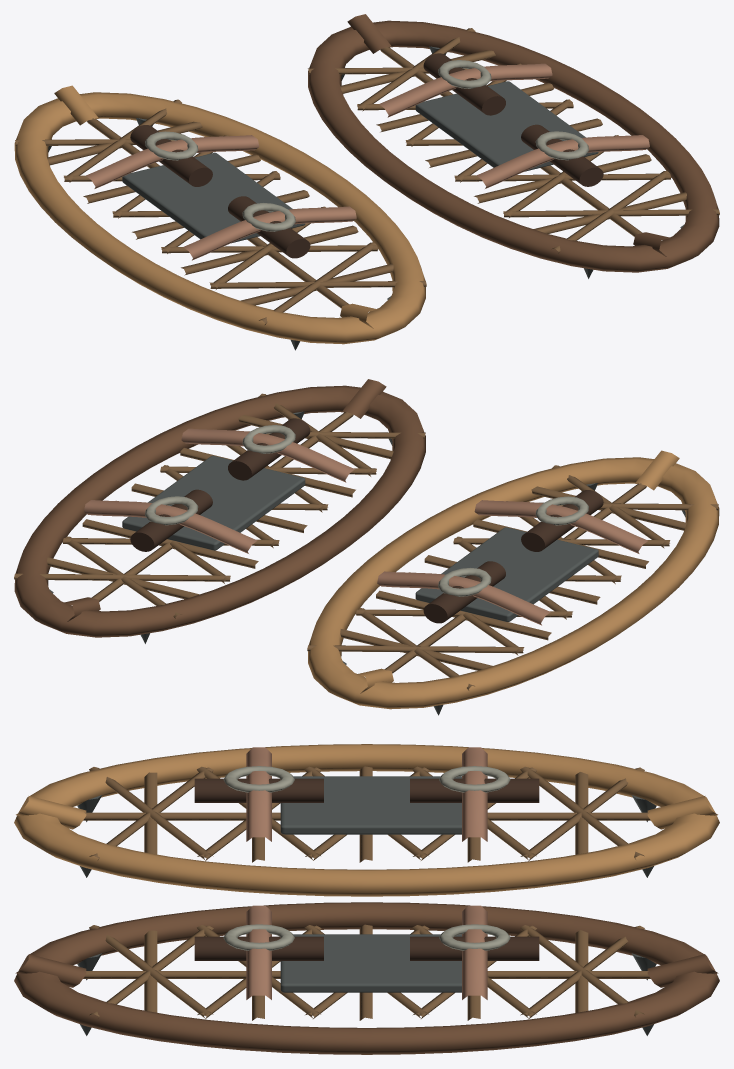
Rendered from extra_snowshoe_pair.glb.
3 views of the same model, one above another, from view 1: azimuth 30°, elevation 25°; view 2: azimuth 150°, elevation 25°; view 3: azimuth 270°, elevation 25° (orthographic). The views are drawn at different scales.
Visible parts, largest first — view 1: wood, metal, cloth; view 2: wood, metal, cloth; view 3: wood, metal, cloth.
Part boxes in pixels (box(x1,y1,x2,y2)): wood: box(14, 14, 719, 344); metal: box(48, 46, 684, 350); cloth: box(86, 63, 649, 260); wood: box(14, 379, 719, 709); metal: box(49, 411, 685, 715); cloth: box(84, 428, 647, 625); wood: box(14, 744, 719, 1054); metal: box(77, 766, 656, 1035); cloth: box(246, 747, 487, 999).
Bounding box in the file's own units: 1.3 × 0.15 × 1.3.
